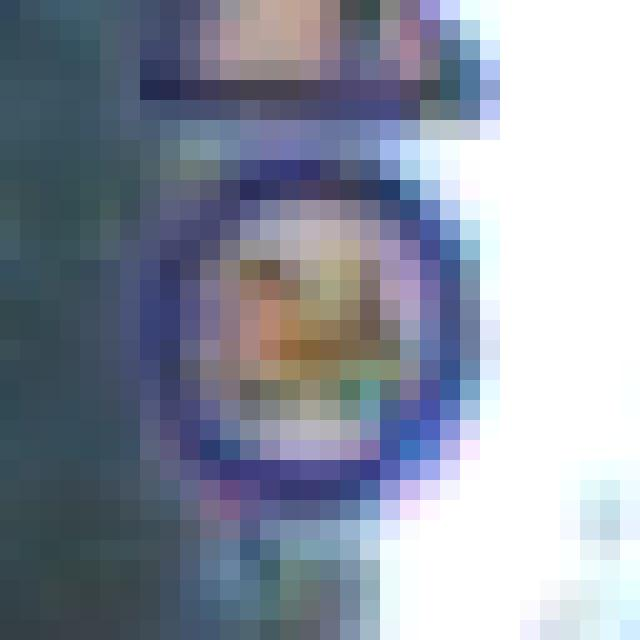SPEED-LIMIT-60: (104, 136, 504, 541)
